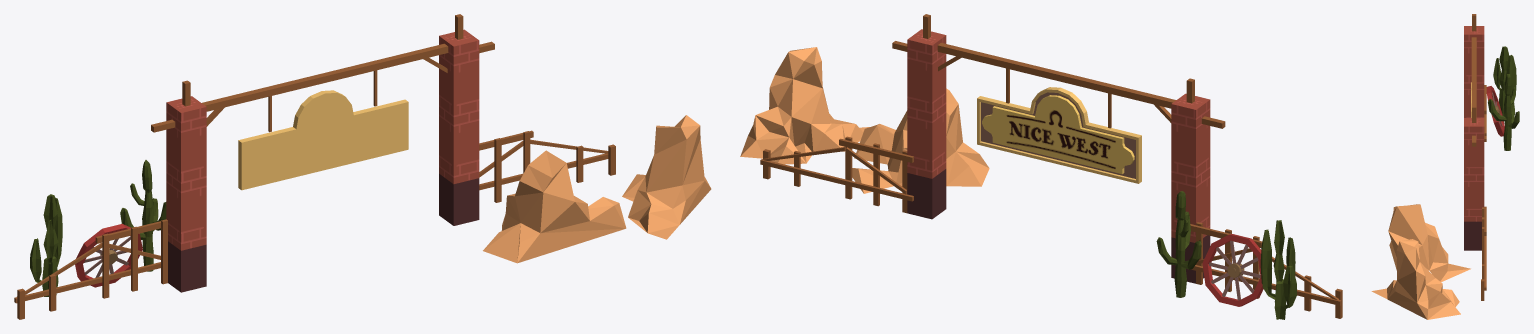
Rendered from D8_Welcome_sign.fbx.
3 views of the same model, side by side, from view 1: azimuth 30°, elevation 25°; view 2: azimuth 150°, elevation 25°; view 3: azimuth 270°, elevation 25° (orthographic). The views are drawn at different scales.
Parts seen in each view (by area): view 1: Circle.130; view 2: Circle.130; view 3: Circle.130.
Boxes of the visible parts, left/top/right/bottom form: Circle.130: left=14, top=14, right=711, bottom=319; Circle.130: left=740, top=14, right=1342, bottom=319; Circle.130: left=1371, top=14, right=1519, bottom=319.
Size of the model in its own units: 5114 by 1508 by 1455.
Materials: 6 (5 with a texture image).
